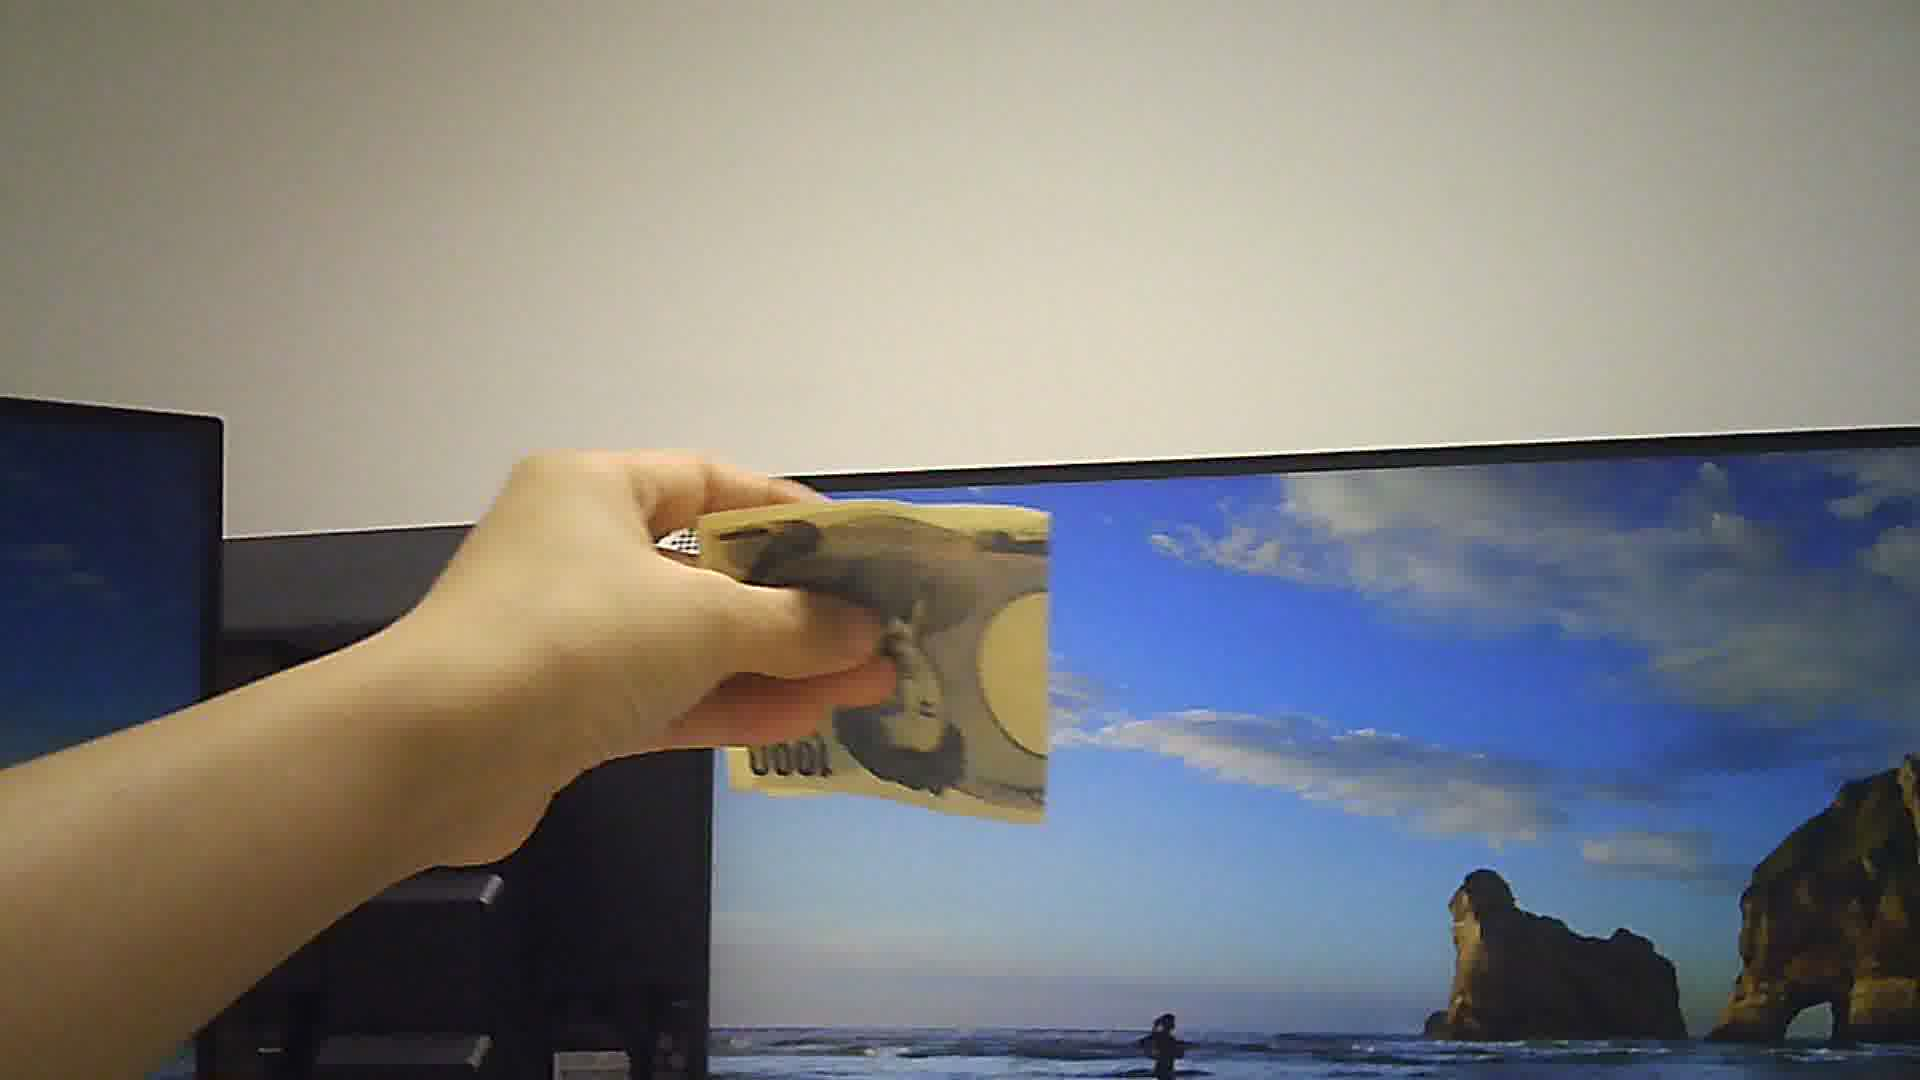1,000 Yen: (688, 487, 1060, 841)
